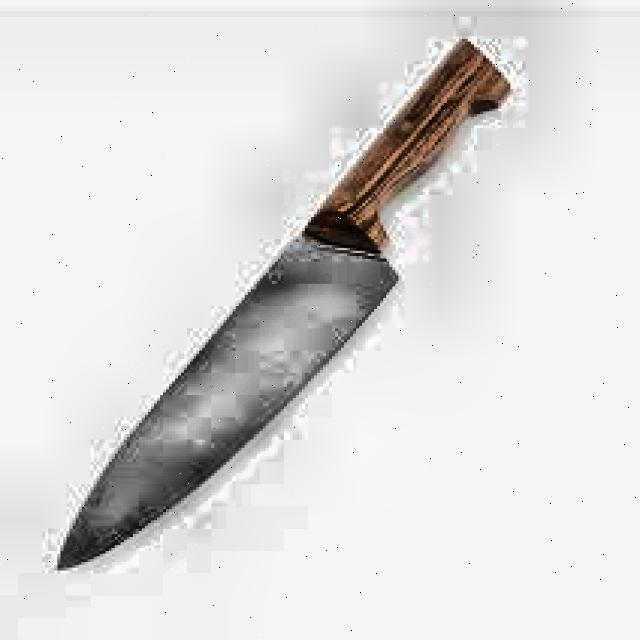knife: (55, 42, 513, 575)
